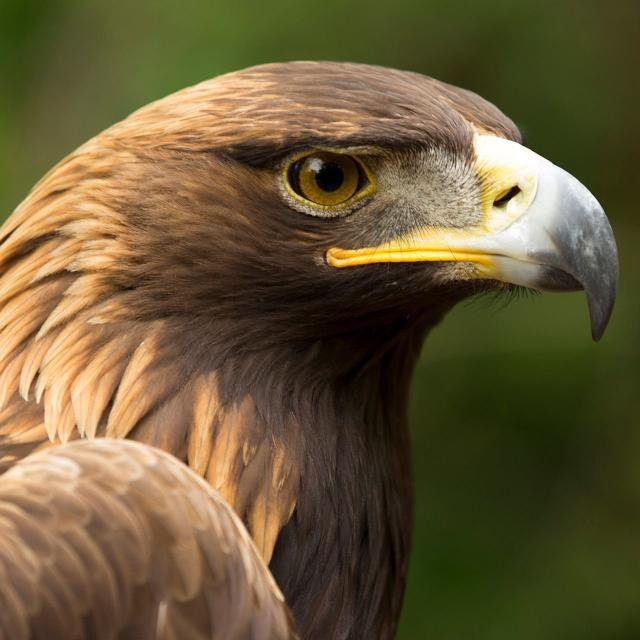Eagle: (0, 53, 624, 637)
